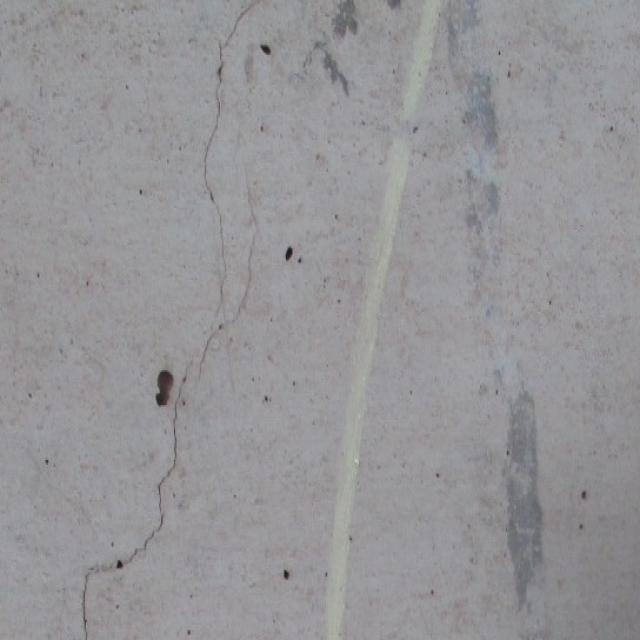Longitudinal: (82, 0, 348, 640)
